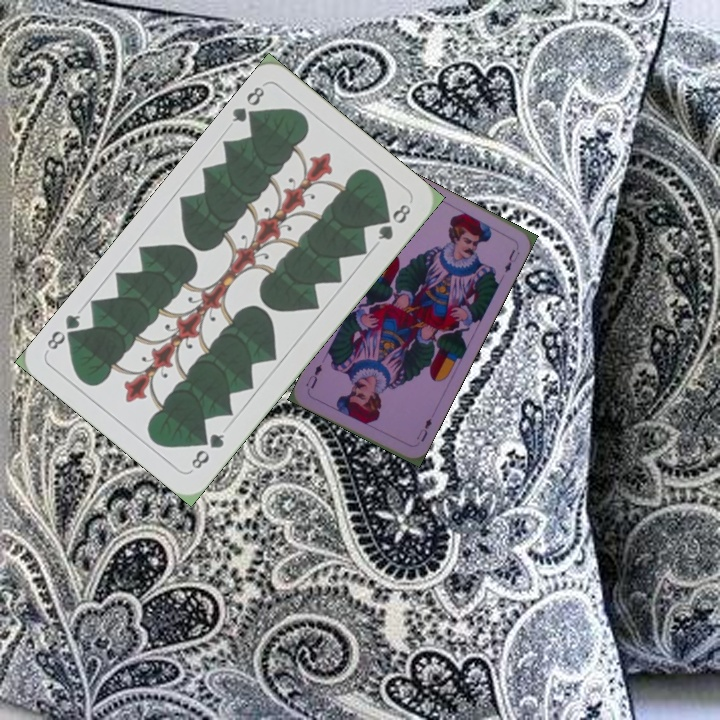EU: (412, 414, 434, 445)
G8: (227, 82, 268, 128), (187, 429, 227, 472)
